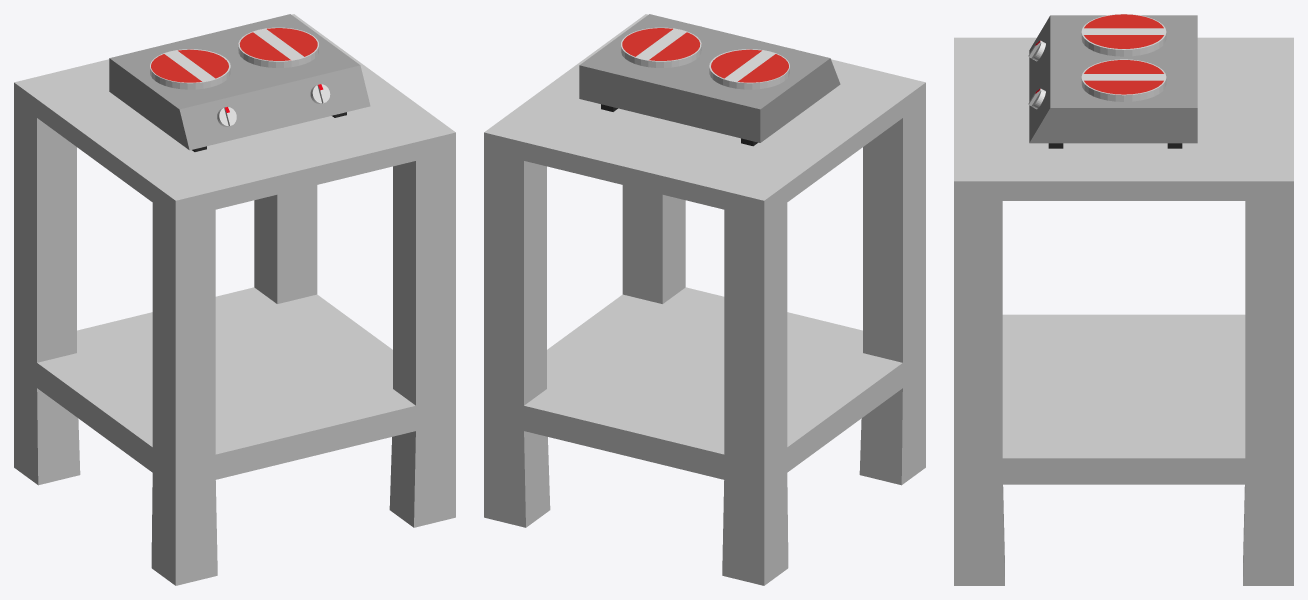
File: Stove.fbx
3 renders of one model, left to right at view 1: azimuth 30°, elevation 25°; view 2: azimuth 150°, elevation 25°; view 3: azimuth 270°, elevation 25°, orthographic. The views are drawn at different scales.
Visible parts, largest first — view 1: Table, Stove, SurfaceHot.001, SurfaceHot, SurfaceLeft, SurfaceRight; view 2: Table, Stove, SurfaceHot.001, SurfaceHot, SurfaceLeft, SurfaceRight; view 3: Table, Stove, SurfaceHot.001, SurfaceHot, SurfaceLeft, SurfaceRight.
Boxes of the visible parts, box(x1,y1,x2,y2) form: Table: box(14, 14, 455, 585); Stove: box(109, 14, 370, 150); SurfaceHot.001: box(151, 49, 228, 82); SurfaceHot: box(239, 28, 317, 60); SurfaceLeft: box(150, 49, 230, 89); SurfaceRight: box(238, 27, 318, 67); Table: box(484, 14, 925, 585); Stove: box(579, 14, 840, 142); SurfaceHot.001: box(711, 49, 788, 82); SurfaceHot: box(622, 28, 700, 60); SurfaceLeft: box(709, 49, 789, 89); SurfaceRight: box(621, 27, 701, 67); Table: box(954, 37, 1293, 585); Stove: box(1029, 15, 1197, 143); SurfaceHot.001: box(1084, 14, 1163, 48); SurfaceHot: box(1084, 60, 1163, 94); SurfaceLeft: box(1081, 14, 1166, 56); SurfaceRight: box(1081, 59, 1166, 101).
Bounding box in the file's own units: 1 × 1 × 1.49.
